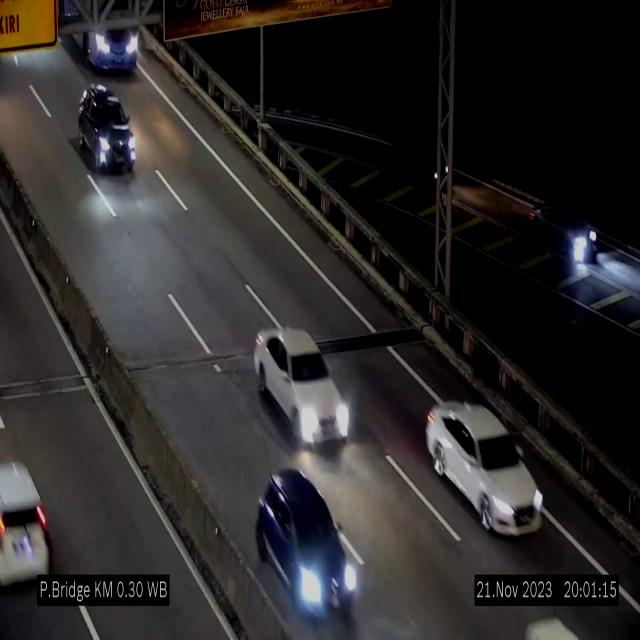Bus: (52, 0, 143, 69)
Car: (253, 466, 359, 624), (426, 401, 546, 532), (254, 328, 351, 448), (0, 452, 66, 614), (528, 195, 606, 265), (78, 85, 136, 171), (391, 132, 455, 196)
